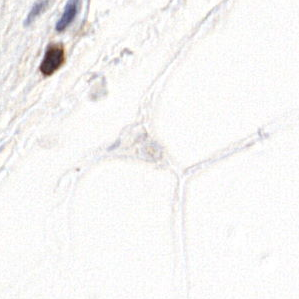Lymphocyte: (40, 42, 67, 77)
